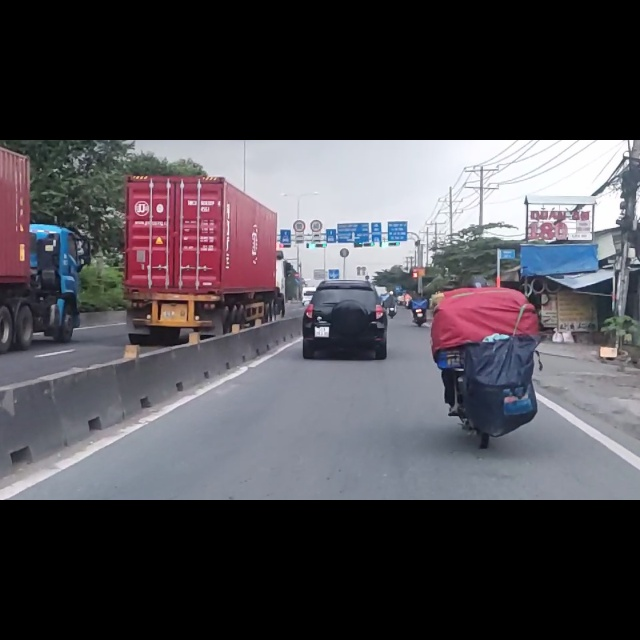bien_nguy_hiem: (293, 142, 306, 165), (311, 141, 323, 164)
